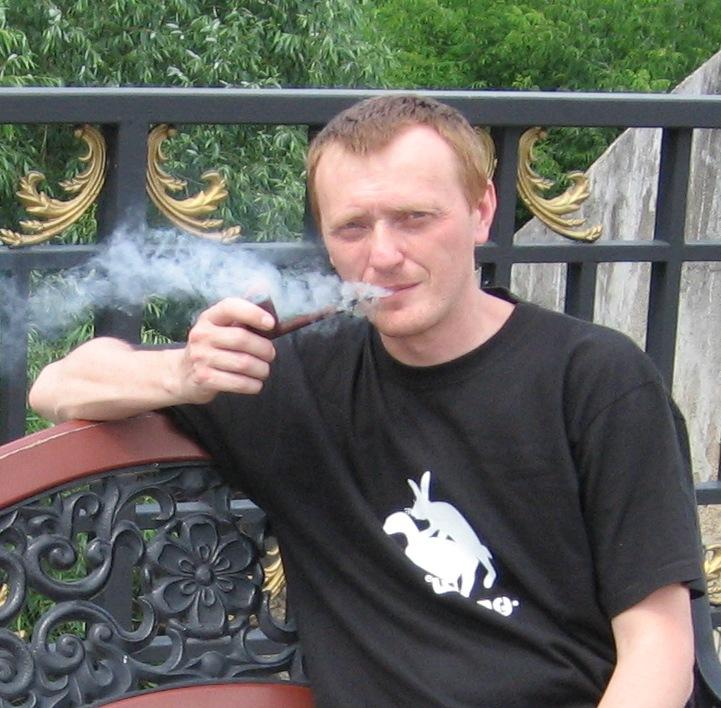trubka: (232, 290, 372, 341)
